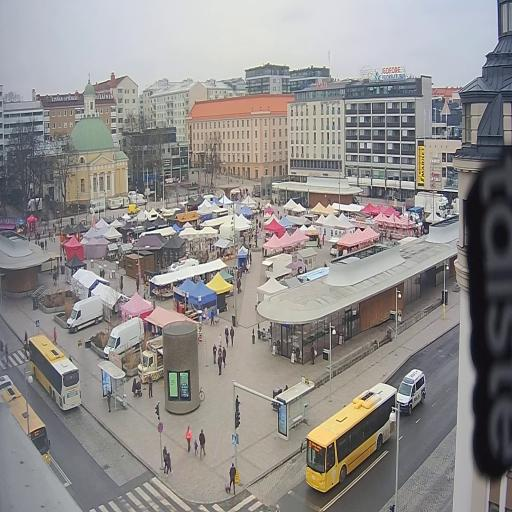bus: (306, 383, 397, 492), (0, 375, 51, 465), (29, 334, 81, 410)
delivery: (103, 318, 144, 359), (397, 368, 426, 415), (67, 296, 103, 332), (138, 336, 163, 383), (415, 191, 450, 217)
